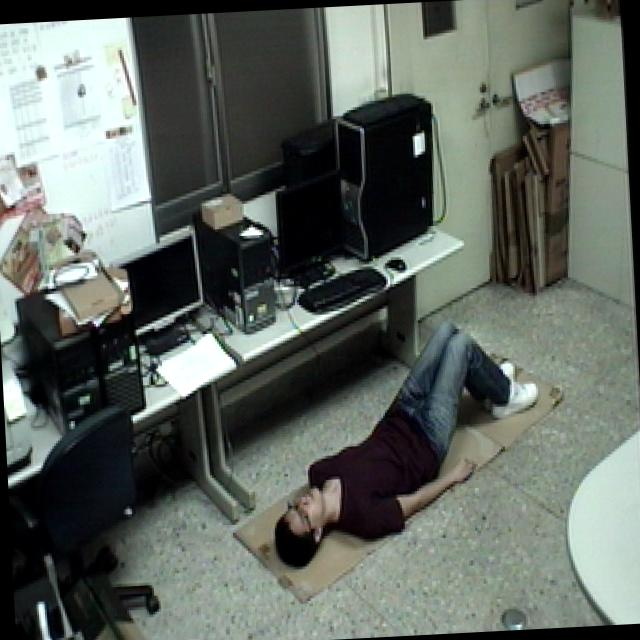lie: (260, 311, 550, 576)
